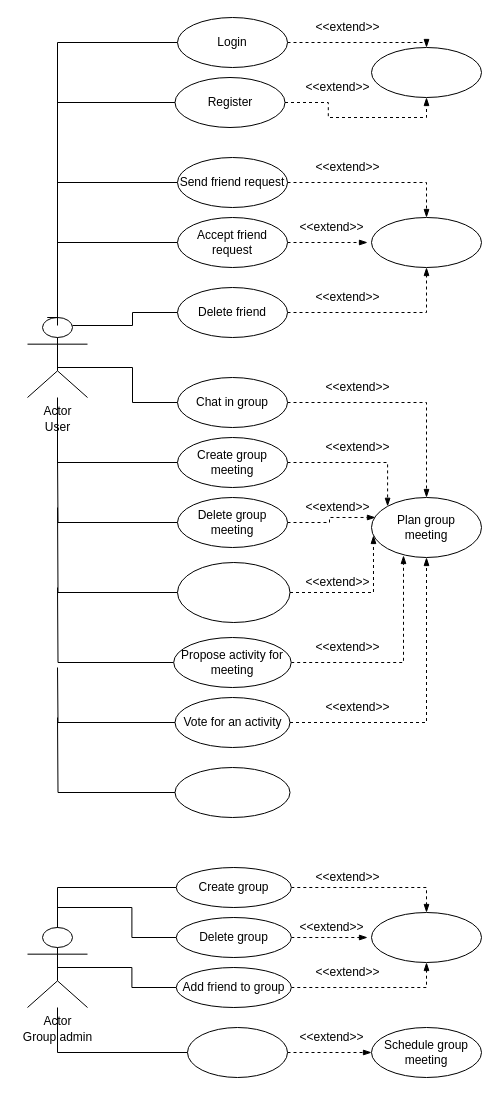
The diagram is 499 pixels wide and 1095 high, and some of its shapes have lost their labels. The centre of each missing label's shape, as x and y in pixels:
"Choose meeting location" belongs at (x=237, y=1052).
"Manage friends" belongs at (x=426, y=242).
"Manage group" belongs at (x=426, y=937).
"Report a bug" belongs at (x=232, y=792).
"Share free time with a group" belongs at (x=233, y=592).
"Use the app" belongs at (x=426, y=72).
